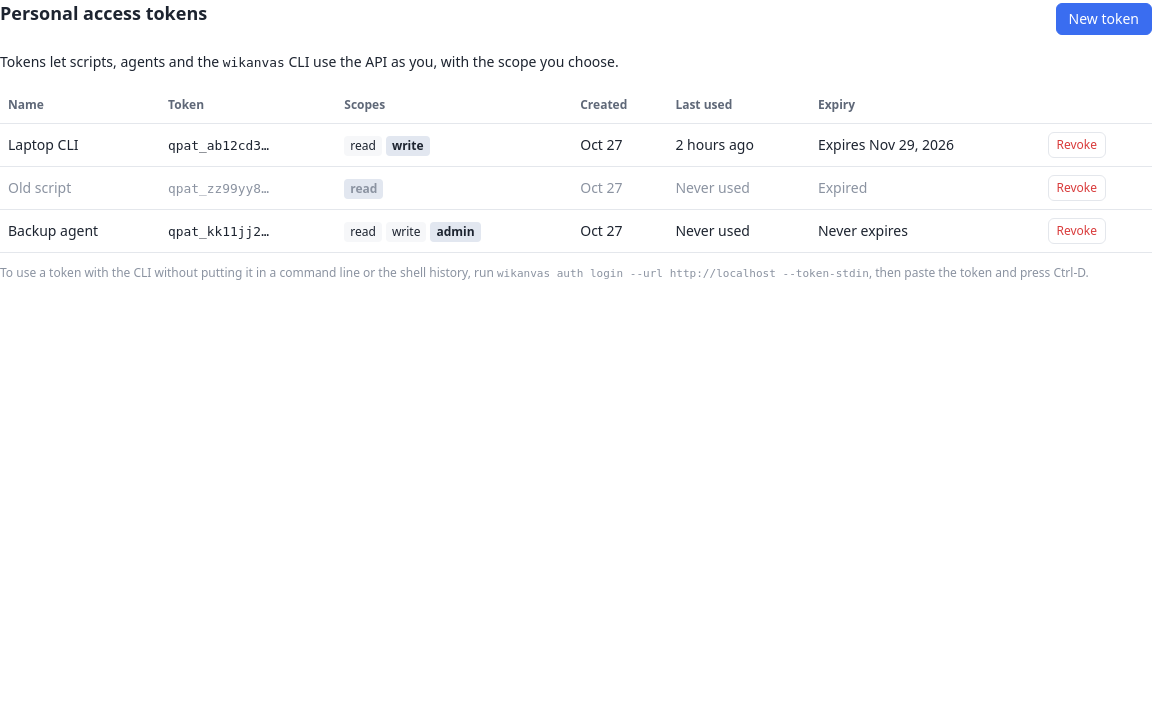
Test: Settings → API tokens › create shows the secret once with Copy; closing the dialog drops it everywhere
This screenshot has width=1152, height=720.
Click the button "New token". click: (1104, 19)
box: [1056,3,1151,35]
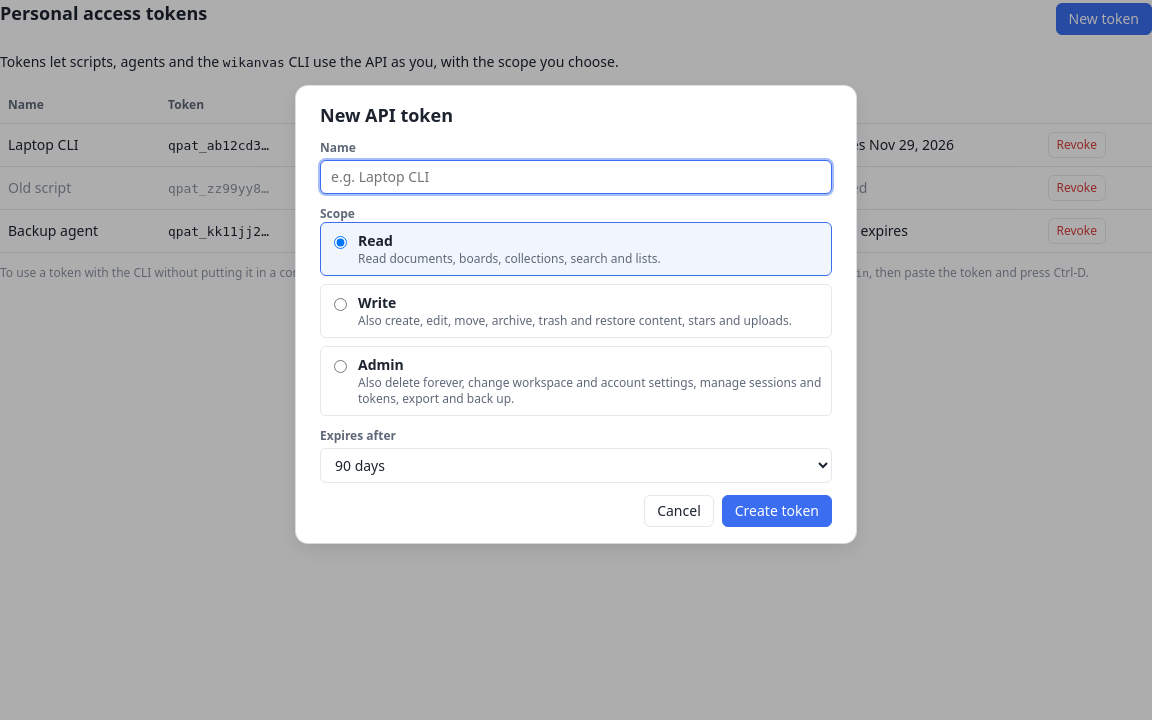
Type "CI runner" into the field labelled "Name". click: (576, 177)
box: [320,160,832,194]
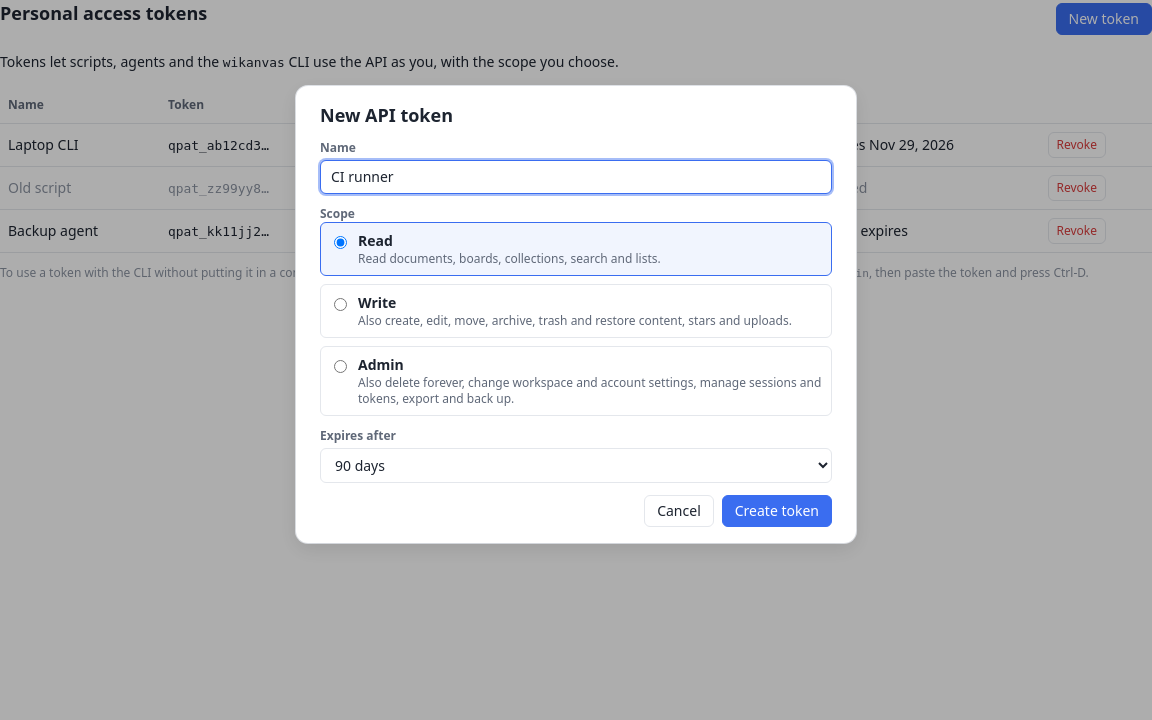
Click the radio button labelled "Write". click: (340, 305)
box: [334,298,347,311]
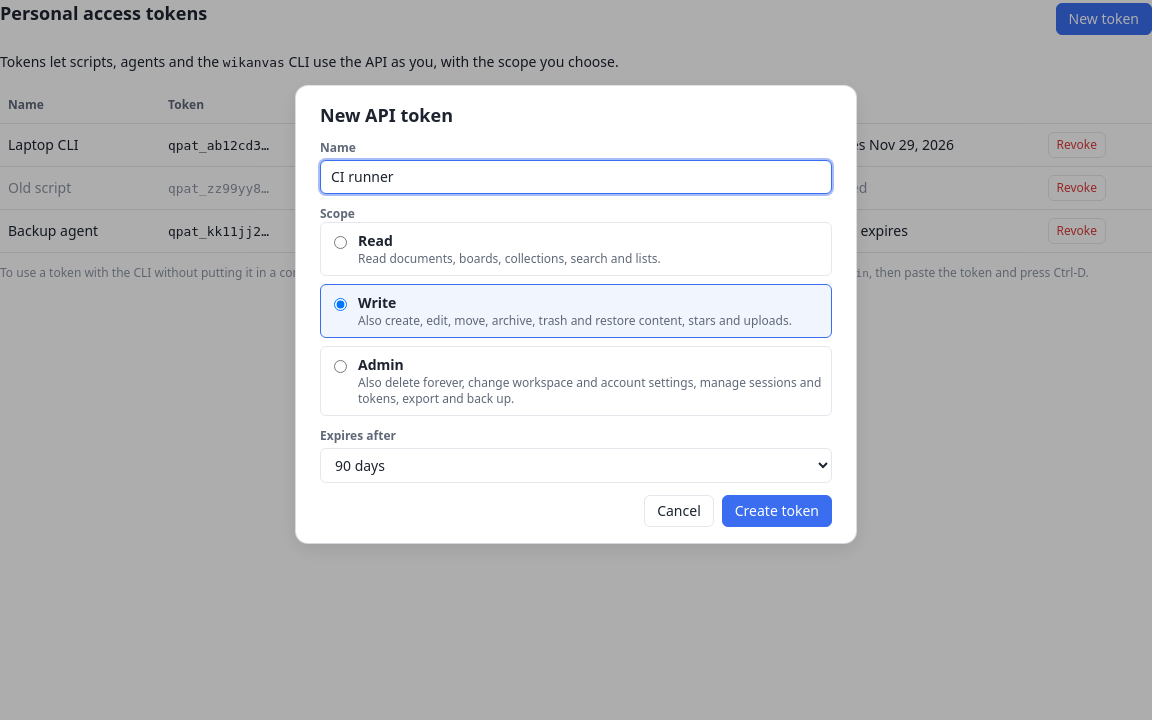
Click the button "Create token". click: (777, 511)
box: [722,495,832,527]
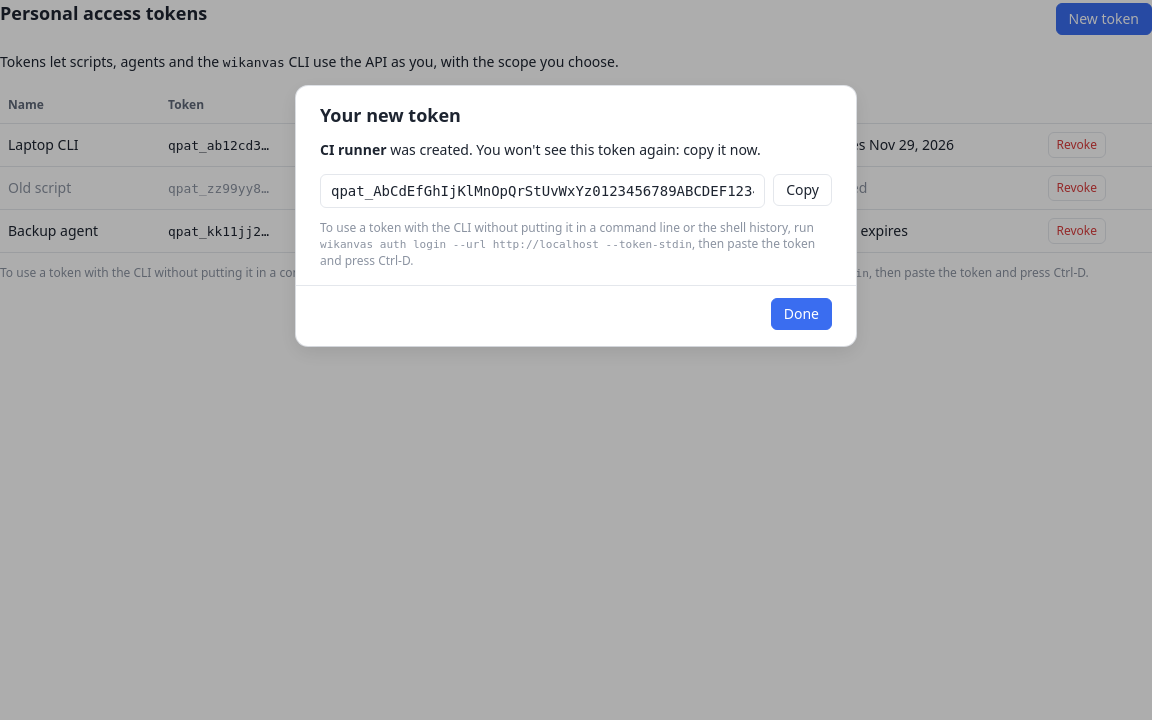
expect the field named "Token" holds "qpat_AbCdEfGhIjKlMnOpQrStUvWxYz0123456789ABCDEF12345": met, box [320,174,765,208]
expect the text "You won't see this token again" is shown: met, box [387,140,761,159]
Click the button "Copy". click: (803, 190)
box: [773,174,832,206]
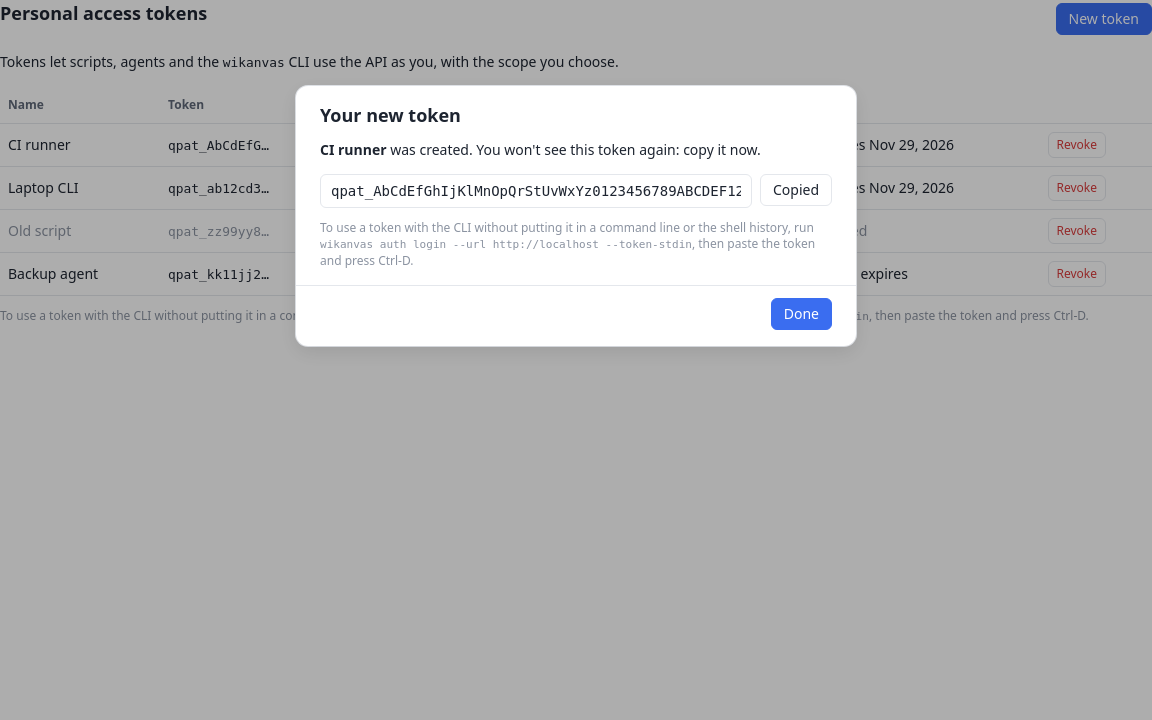
expect the button "Copied" is shown: met, box [760,174,832,206]
Click the button "Done". click: (801, 314)
box: [771,298,832,330]
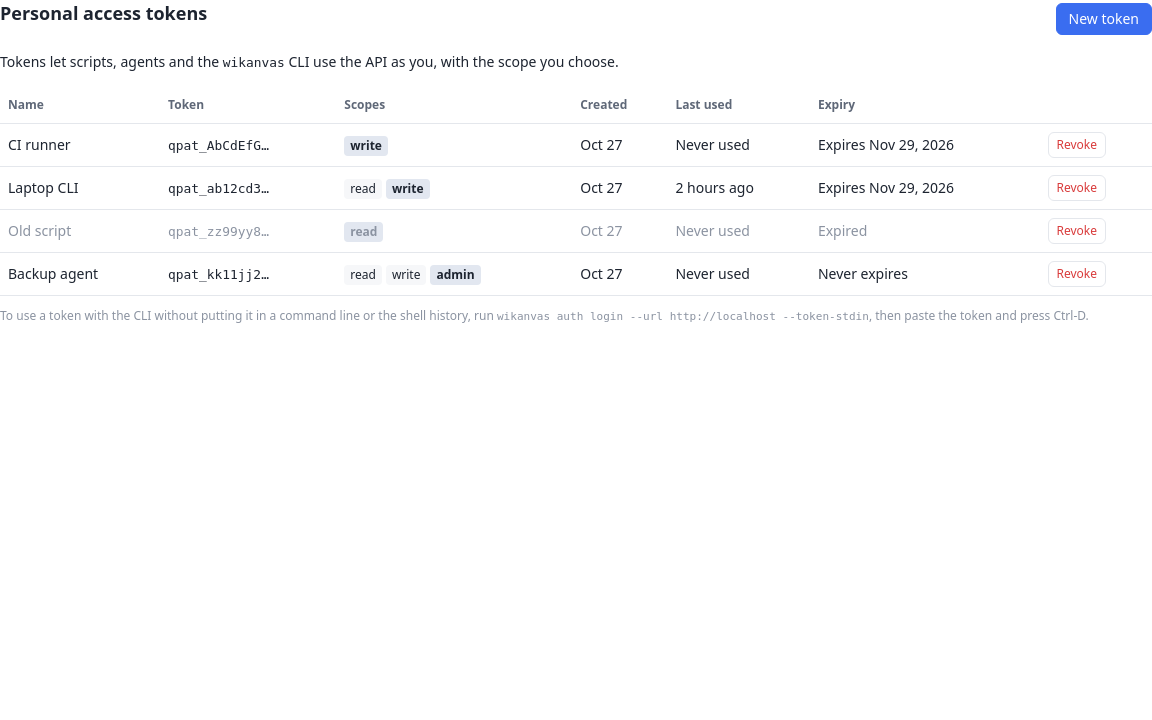
expect the text "qpat_AbCdEfGhIjKlMnOpQrStUvWxYz0123456789ABCDEF12345" is not shown: met
expect the row "CI runner" is shown: met, box [0,124,1151,166]
expect the dialog is gone: met
